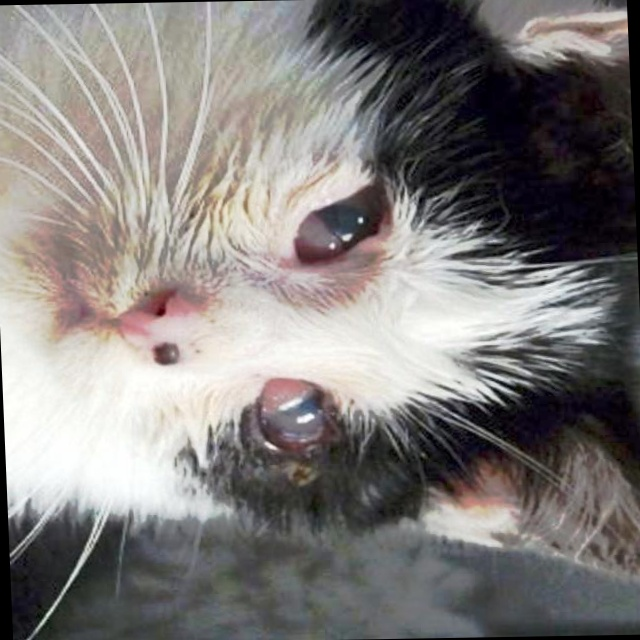eye_infection: (287, 175, 402, 274), (243, 372, 337, 469)
